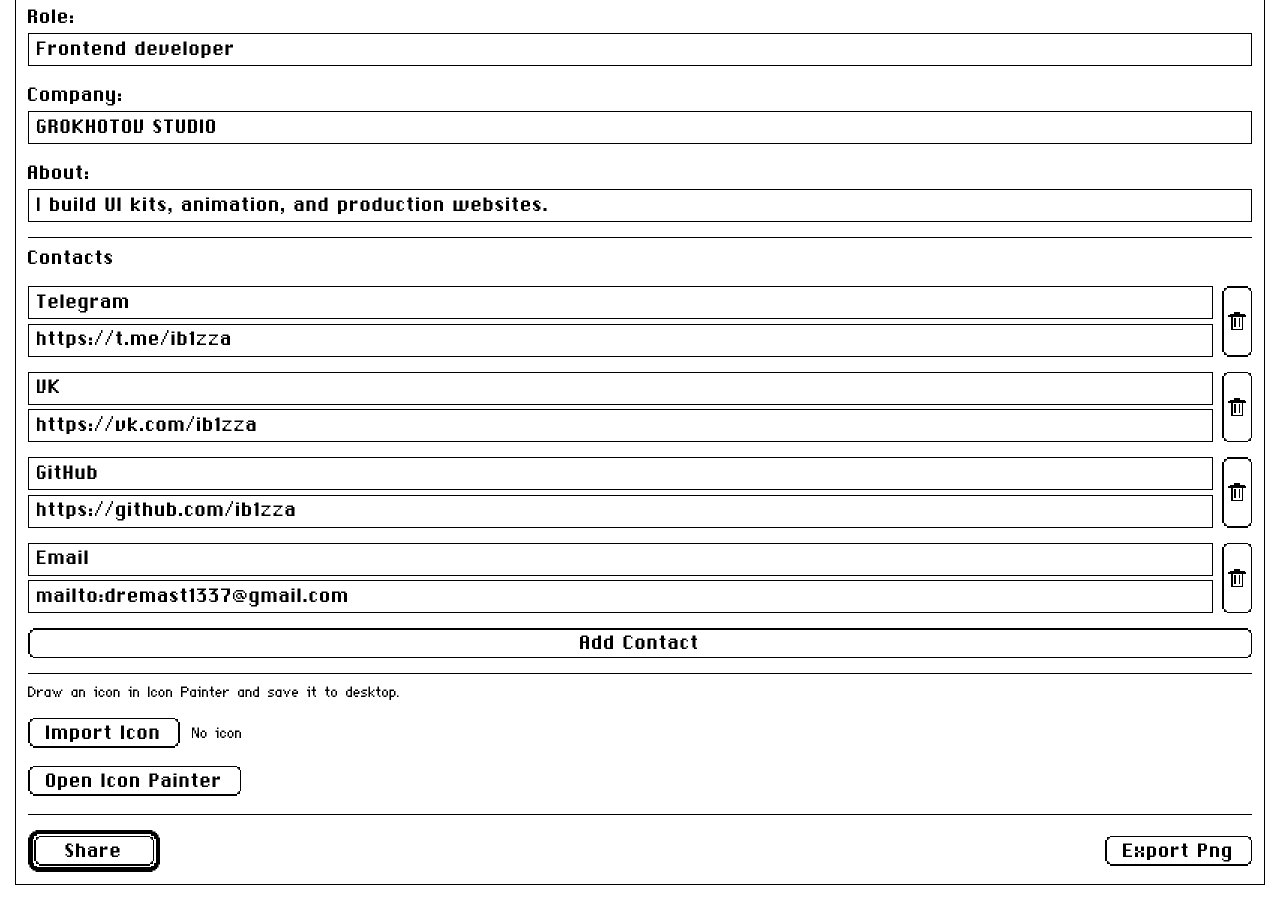
Test case: BadgeGenerator › opens icon import dialog
(page scrolled)
Click the button "import icon" at (104, 732), box [28,718,180,748]
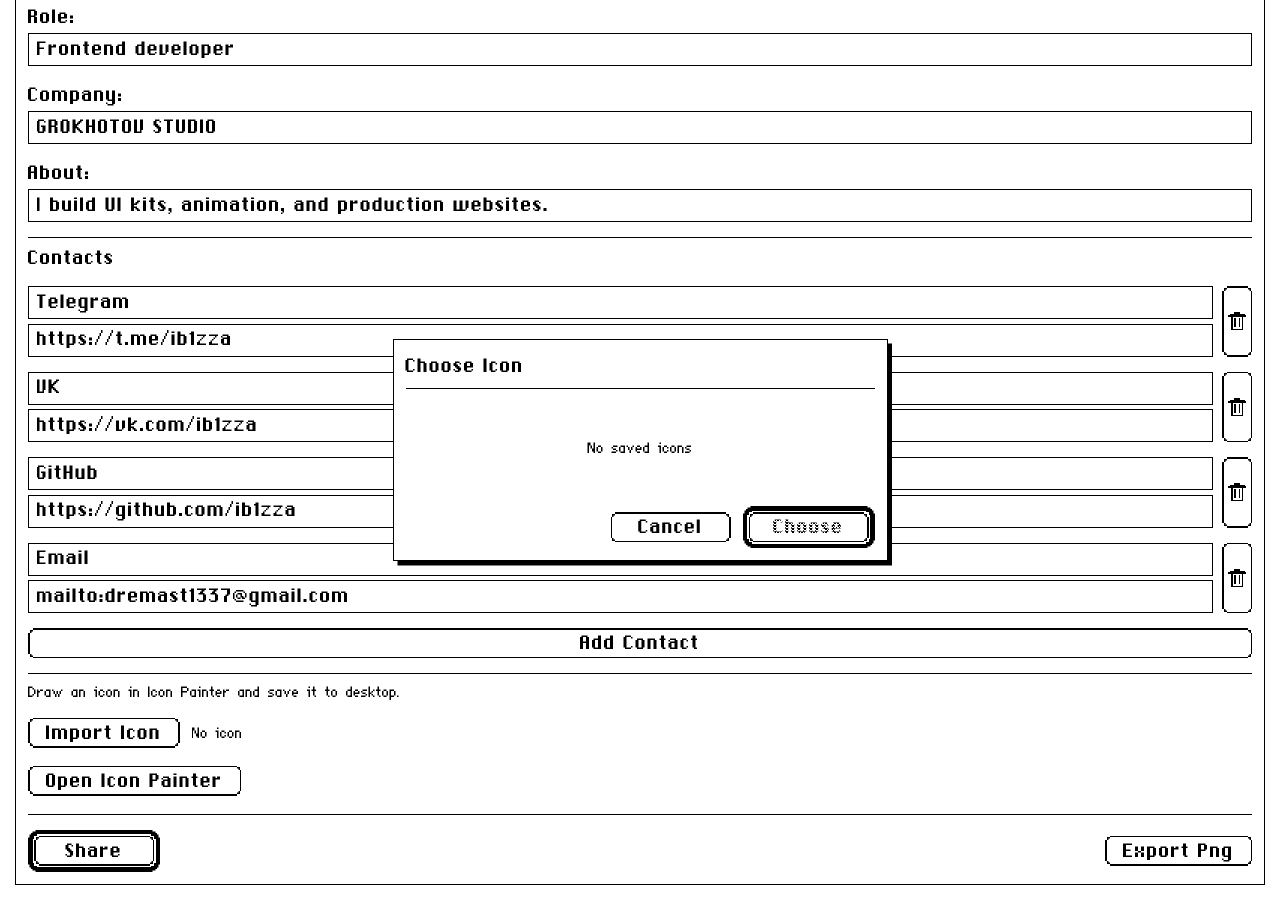
Expected: the text "Choose Icon" is shown, [406,352,874,389]
